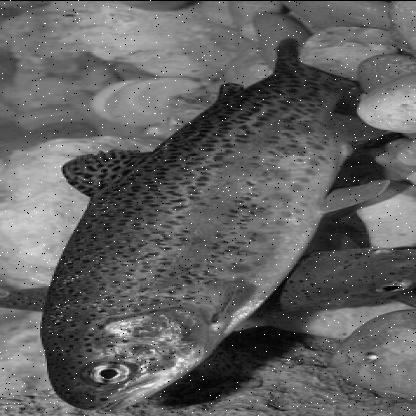fish: (11, 37, 388, 409)
